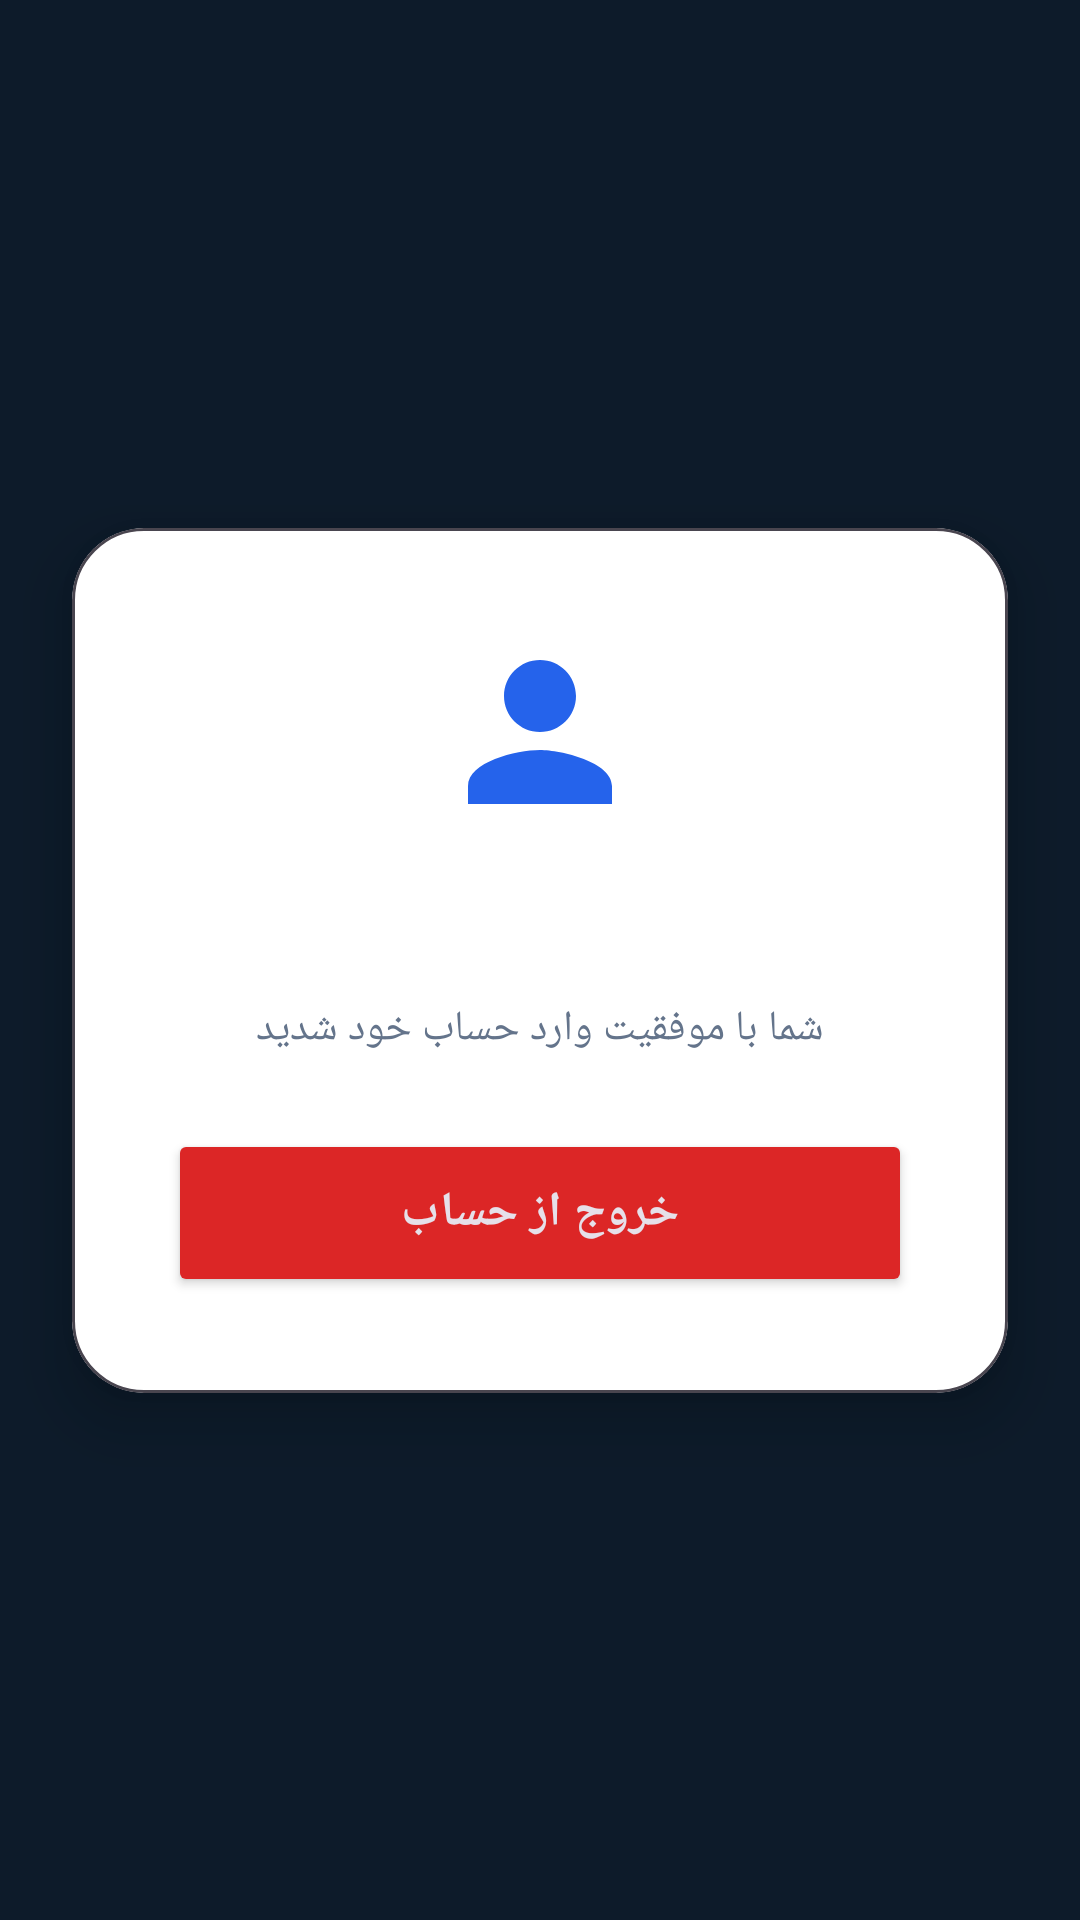

Screen size 1080×1920. Icon name, then its center in pixels as (x=x, y=y):
person: (x=540, y=732)
